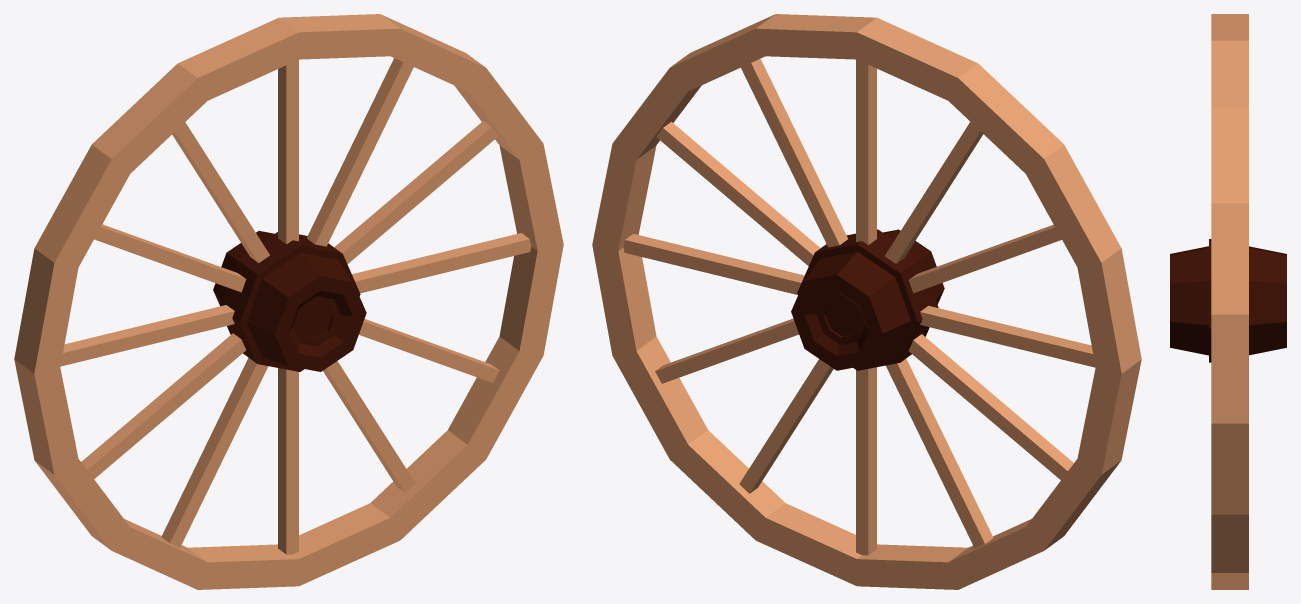
File: Wooden_Wheel.fbx
3 views of the same model, side by side, from view 1: azimuth 30°, elevation 25°; view 2: azimuth 150°, elevation 25°; view 3: azimuth 270°, elevation 25° (orthographic). The views are drawn at different scales.
Parts seen in each view (by area): view 1: Wooden_Wheel; view 2: Wooden_Wheel; view 3: Wooden_Wheel.
Boxes of the visible parts, box(x1,y1,x2,y2) form: Wooden_Wheel: box(14, 14, 563, 589); Wooden_Wheel: box(592, 14, 1141, 589); Wooden_Wheel: box(1170, 14, 1286, 589).
Bounding box in the file's own units: 177 × 177 × 35.86.
